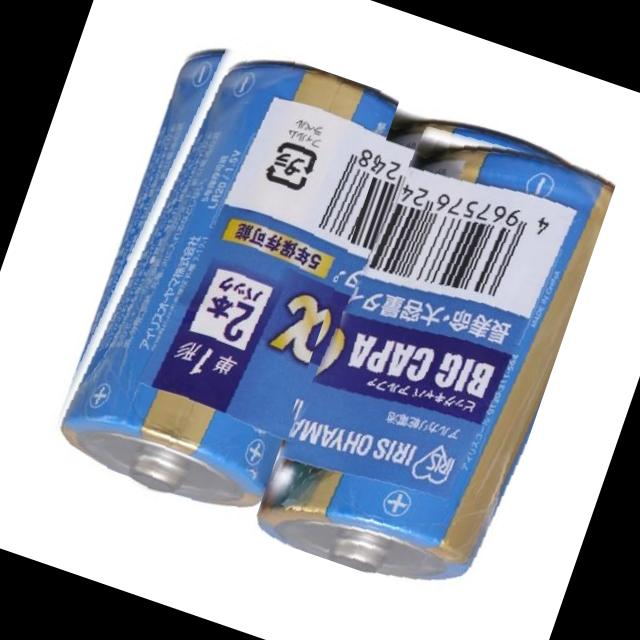Hazard: (242, 94, 618, 607), (34, 21, 400, 532)
